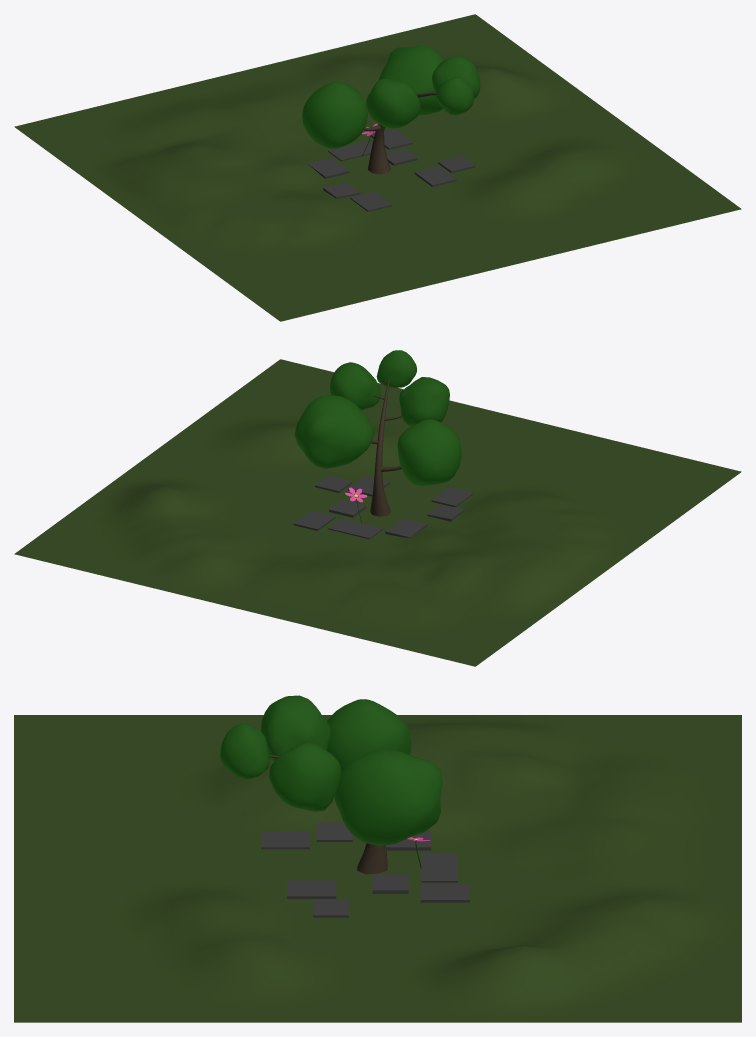
The model's file is single_tree.gltf.
The picture shows the model from 3 angles, top to bottom: view 1: azimuth 30°, elevation 25°; view 2: azimuth 150°, elevation 25°; view 3: azimuth 270°, elevation 25°; orthographic projection. The views are drawn at different scales.
Parts seen in each view (by area): view 1: Grid, Foliage.001, Foliage.004, Foliage.003, Foliage, Foliage.002, Trunk, Cube, Cube.003, Cube.002, Cube.004; view 2: Grid, Foliage.004, Foliage.001, Foliage.003, Foliage, Trunk, Foliage.002, Cube, Cube.001; view 3: Grid, Foliage.004, Foliage.001, Foliage, Foliage.003, Foliage.002, Cube, Cube.001, Cube.003, Cube.004, Trunk, Cube.006 (+3 smaller).
Part boxes in pixels (left/top/right/bottom): Grid: left=14, top=14, right=741, bottom=321; Foliage.001: left=302, top=82, right=367, bottom=148; Foliage.004: left=378, top=45, right=443, bottom=115; Foliage.003: left=366, top=78, right=420, bottom=128; Foliage: left=432, top=56, right=480, bottom=100; Foliage.002: left=436, top=77, right=473, bottom=115; Trunk: left=364, top=89, right=437, bottom=174; Cube: left=328, top=140, right=372, bottom=161; Cube.003: left=414, top=166, right=456, bottom=186; Cube.002: left=307, top=158, right=349, bottom=178; Cube.004: left=350, top=191, right=391, bottom=211; Grid: left=14, top=359, right=741, bottom=666; Foliage.004: left=294, top=395, right=374, bottom=468; Foliage.001: left=397, top=419, right=461, bottom=485; Foliage.003: left=399, top=377, right=449, bottom=426; Foliage: left=330, top=362, right=380, bottom=410; Trunk: left=370, top=379, right=401, bottom=516; Foliage.002: left=376, top=350, right=416, bottom=387; Cube: left=328, top=518, right=382, bottom=539; Cube.001: left=293, top=510, right=335, bottom=530; Grid: left=14, top=715, right=741, bottom=1022; Foliage.004: left=334, top=749, right=442, bottom=845; Foliage.001: left=327, top=699, right=411, bottom=771; Foliage: left=269, top=742, right=340, bottom=811; Foliage.003: left=260, top=695, right=331, bottom=761; Foliage.002: left=220, top=723, right=269, bottom=779; Cube: left=421, top=853, right=457, bottom=882; Cube.001: left=420, top=884, right=469, bottom=902; Cube.003: left=287, top=880, right=336, bottom=898; Cube.004: left=261, top=831, right=309, bottom=849; Trunk: left=268, top=755, right=387, bottom=874; Cube.006: left=372, top=874, right=408, bottom=893.
Bounding box in the file's own units: 40 × 10.42 × 40.
